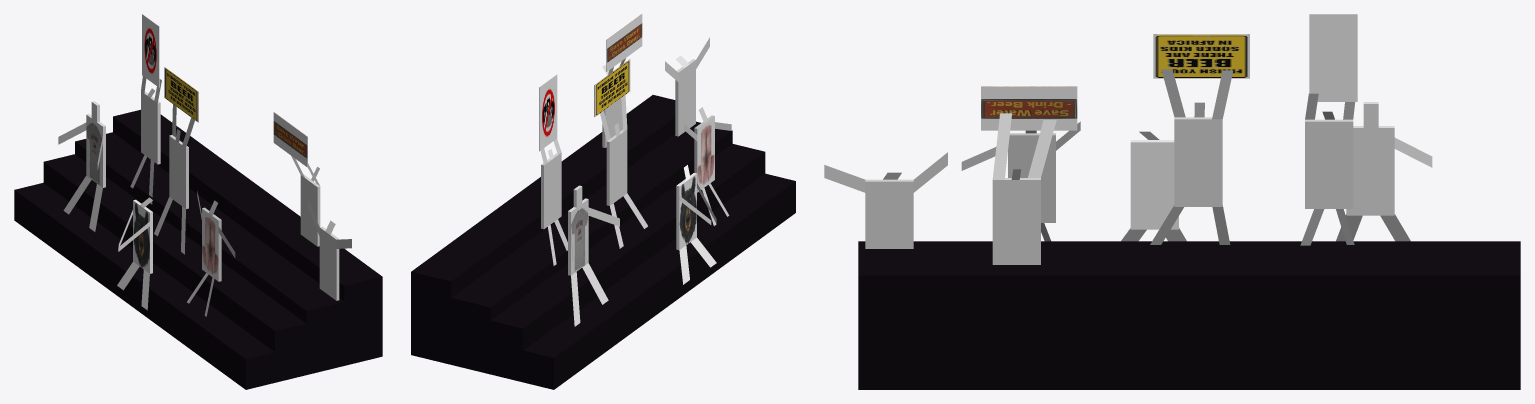
The model's file is skatitaji.fbx.
The picture shows the model from 3 angles, left to right: view 1: azimuth 30°, elevation 25°; view 2: azimuth 150°, elevation 25°; view 3: azimuth 270°, elevation 25°; orthographic projection. The views are drawn at different scales.
Visible parts, largest first — view 1: Cube, Cube.001, Cube.008, Cube.009, Cube.003, Cube.005, Cube.004, Cube.002, Cube.012, Cube.010, Cube.011; view 2: Cube, Cube.001, Cube.008, Cube.009, Cube.003, Cube.005, Cube.004, Cube.012, Cube.010, Cube.011, Cube.002; view 3: Cube, Cube.009, Cube.002, Cube.003, Cube.001, Cube.004, Cube.008, Cube.012, Cube.010, Cube.011, Cube.005.
Part boxes in pixels (box(x1,y1,x2,y2)): Cube: box(14, 109, 382, 389); Cube.001: box(58, 101, 105, 231); Cube.008: box(117, 197, 152, 310); Cube.009: box(154, 104, 194, 254); Cube.003: box(130, 76, 161, 204); Cube.005: box(187, 191, 235, 316); Cube.004: box(308, 199, 351, 300); Cube.002: box(291, 156, 320, 246); Cube.012: box(142, 14, 159, 87); Cube.010: box(164, 67, 198, 122); Cube.011: box(273, 112, 307, 167); Cube: box(411, 95, 795, 389); Cube.001: box(568, 185, 619, 326); Cube.008: box(676, 165, 716, 284); Cube.009: box(600, 95, 647, 248); Cube.003: box(540, 139, 567, 265); Cube.005: box(684, 107, 731, 225); Cube.004: box(665, 37, 709, 136); Cube.012: box(539, 74, 557, 151); Cube.010: box(594, 59, 630, 116); Cube.011: box(606, 14, 642, 71); Cube.002: box(602, 58, 625, 147); Cube: box(858, 241, 1520, 389); Cube.009: box(1150, 69, 1233, 244); Cube.002: box(992, 113, 1056, 264); Cube.003: box(1300, 93, 1355, 245); Cube.001: box(1336, 102, 1432, 241); Cube.004: box(824, 152, 947, 248); Cube.008: box(1121, 131, 1186, 241); Cube.012: box(1309, 14, 1357, 101); Cube.010: box(1153, 34, 1249, 78); Cube.011: box(981, 86, 1077, 130); Cube.005: box(961, 121, 1080, 241).
Size of the model in its own units: 556 by 754 by 1442.
